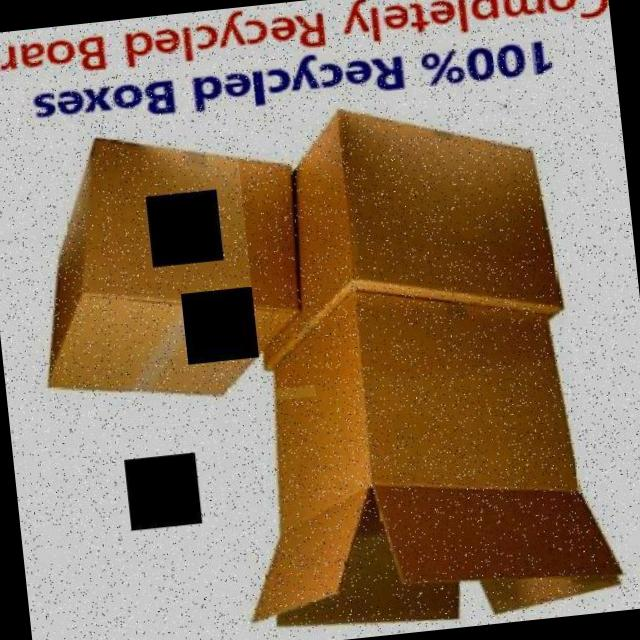box: (210, 262, 640, 640), (232, 73, 578, 390), (17, 107, 316, 424)
